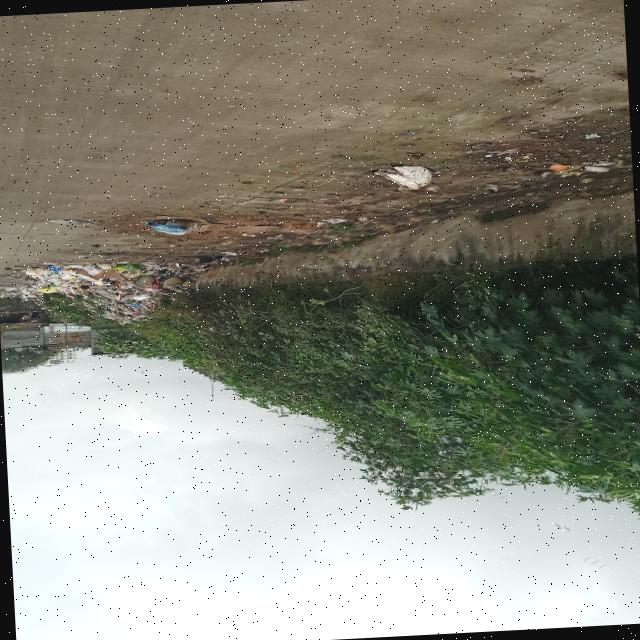garbage: (18, 255, 212, 330)
